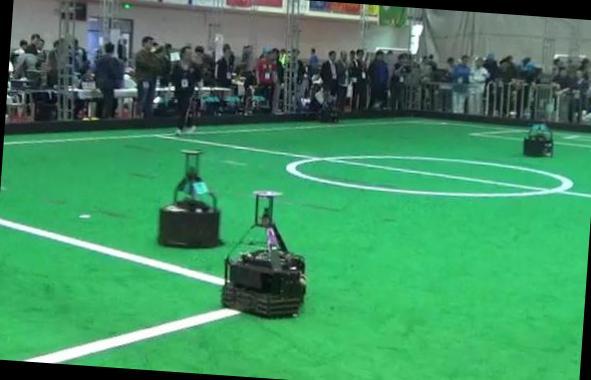person: (171, 45, 194, 134)
robot: (221, 190, 304, 317), (157, 149, 219, 248), (522, 124, 553, 156)
